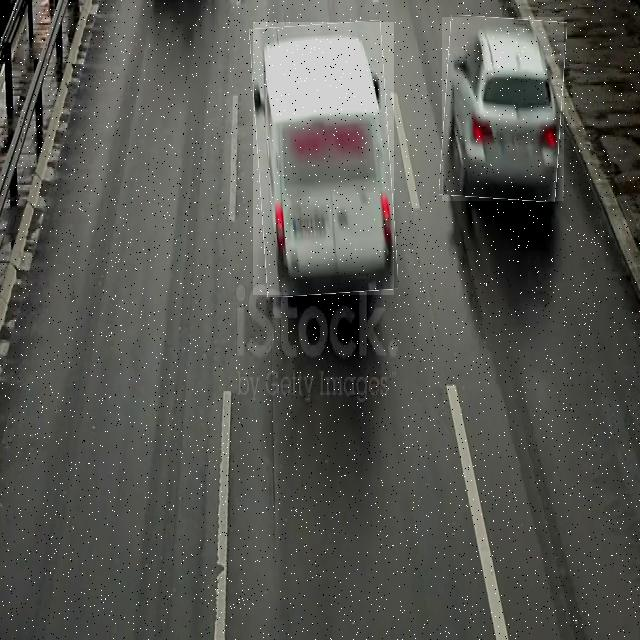Car: (442, 17, 564, 201)
Truck: (253, 22, 394, 295)
